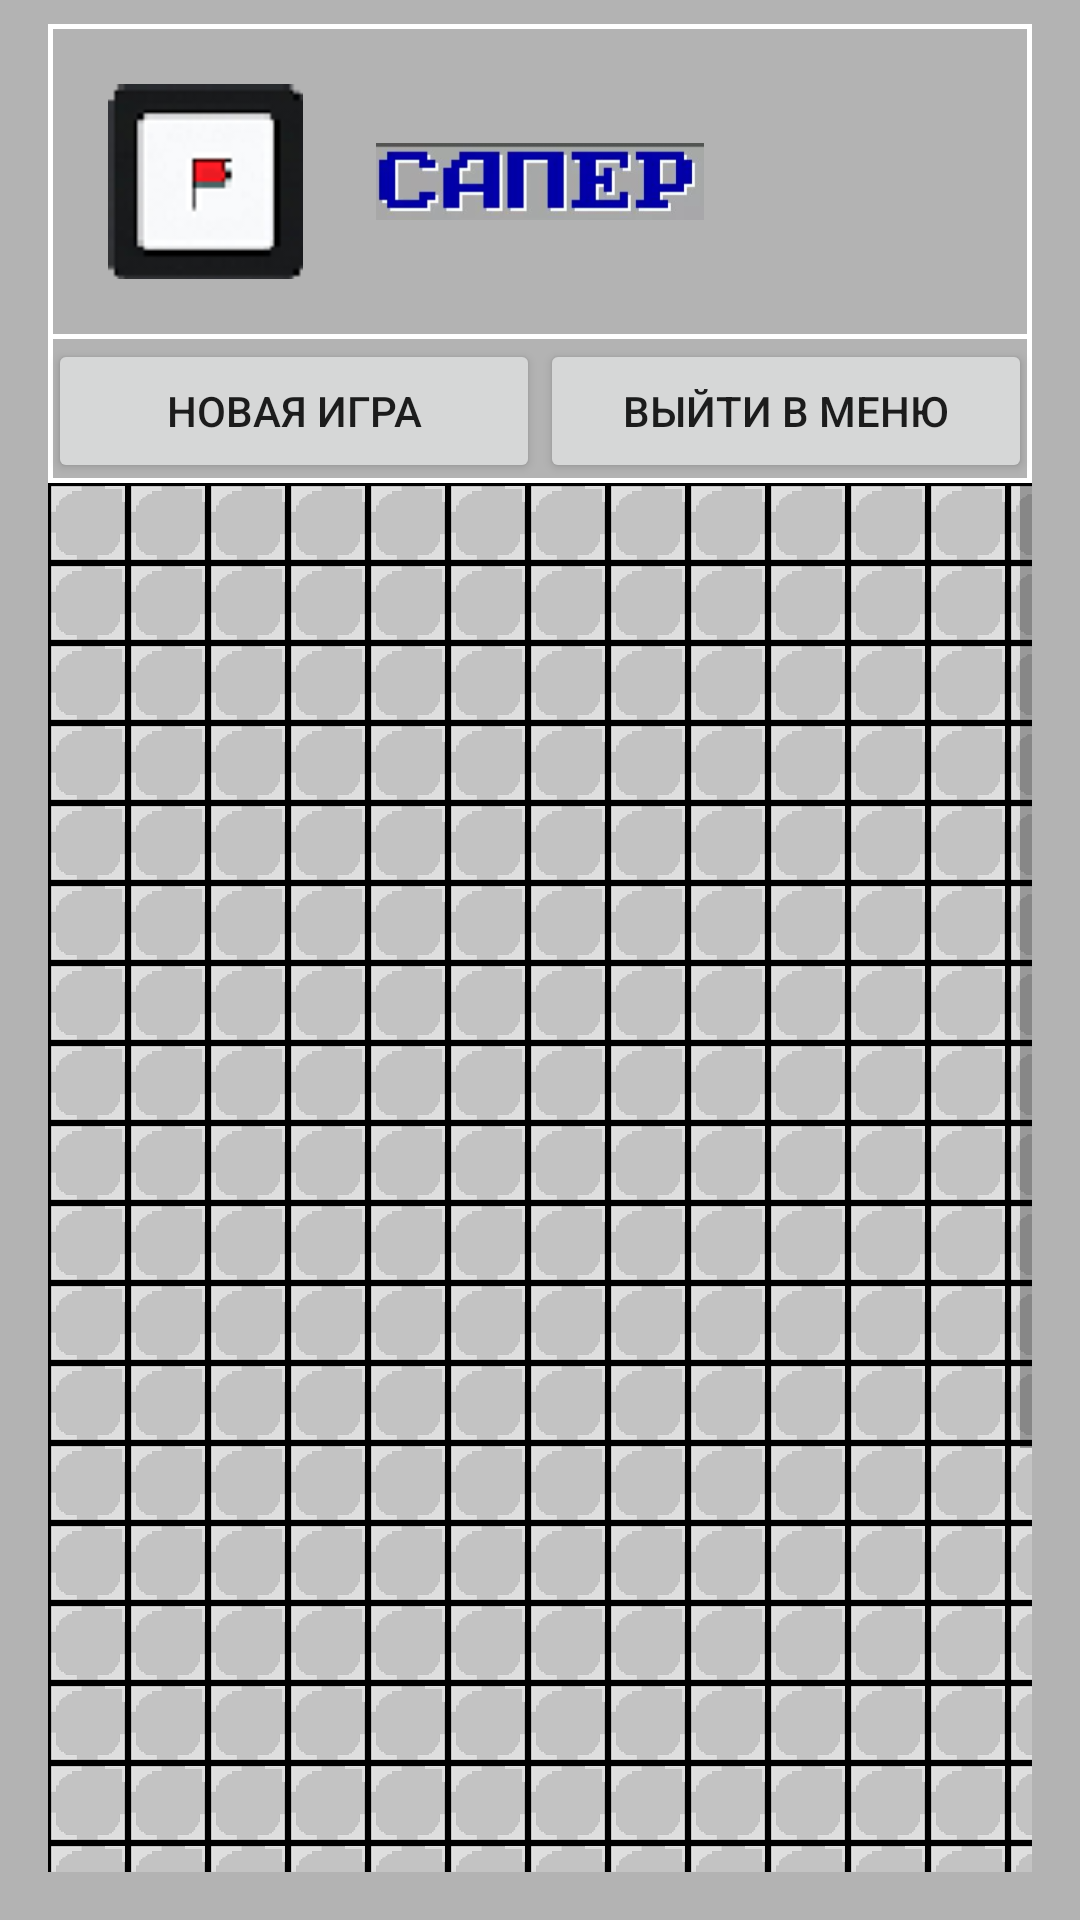

Locate icon controls on the screen. Image size 1080w x 1920h, boxes as bbox=[x1, y1, x2, y2].
flag: bbox=[108, 84, 303, 279]
